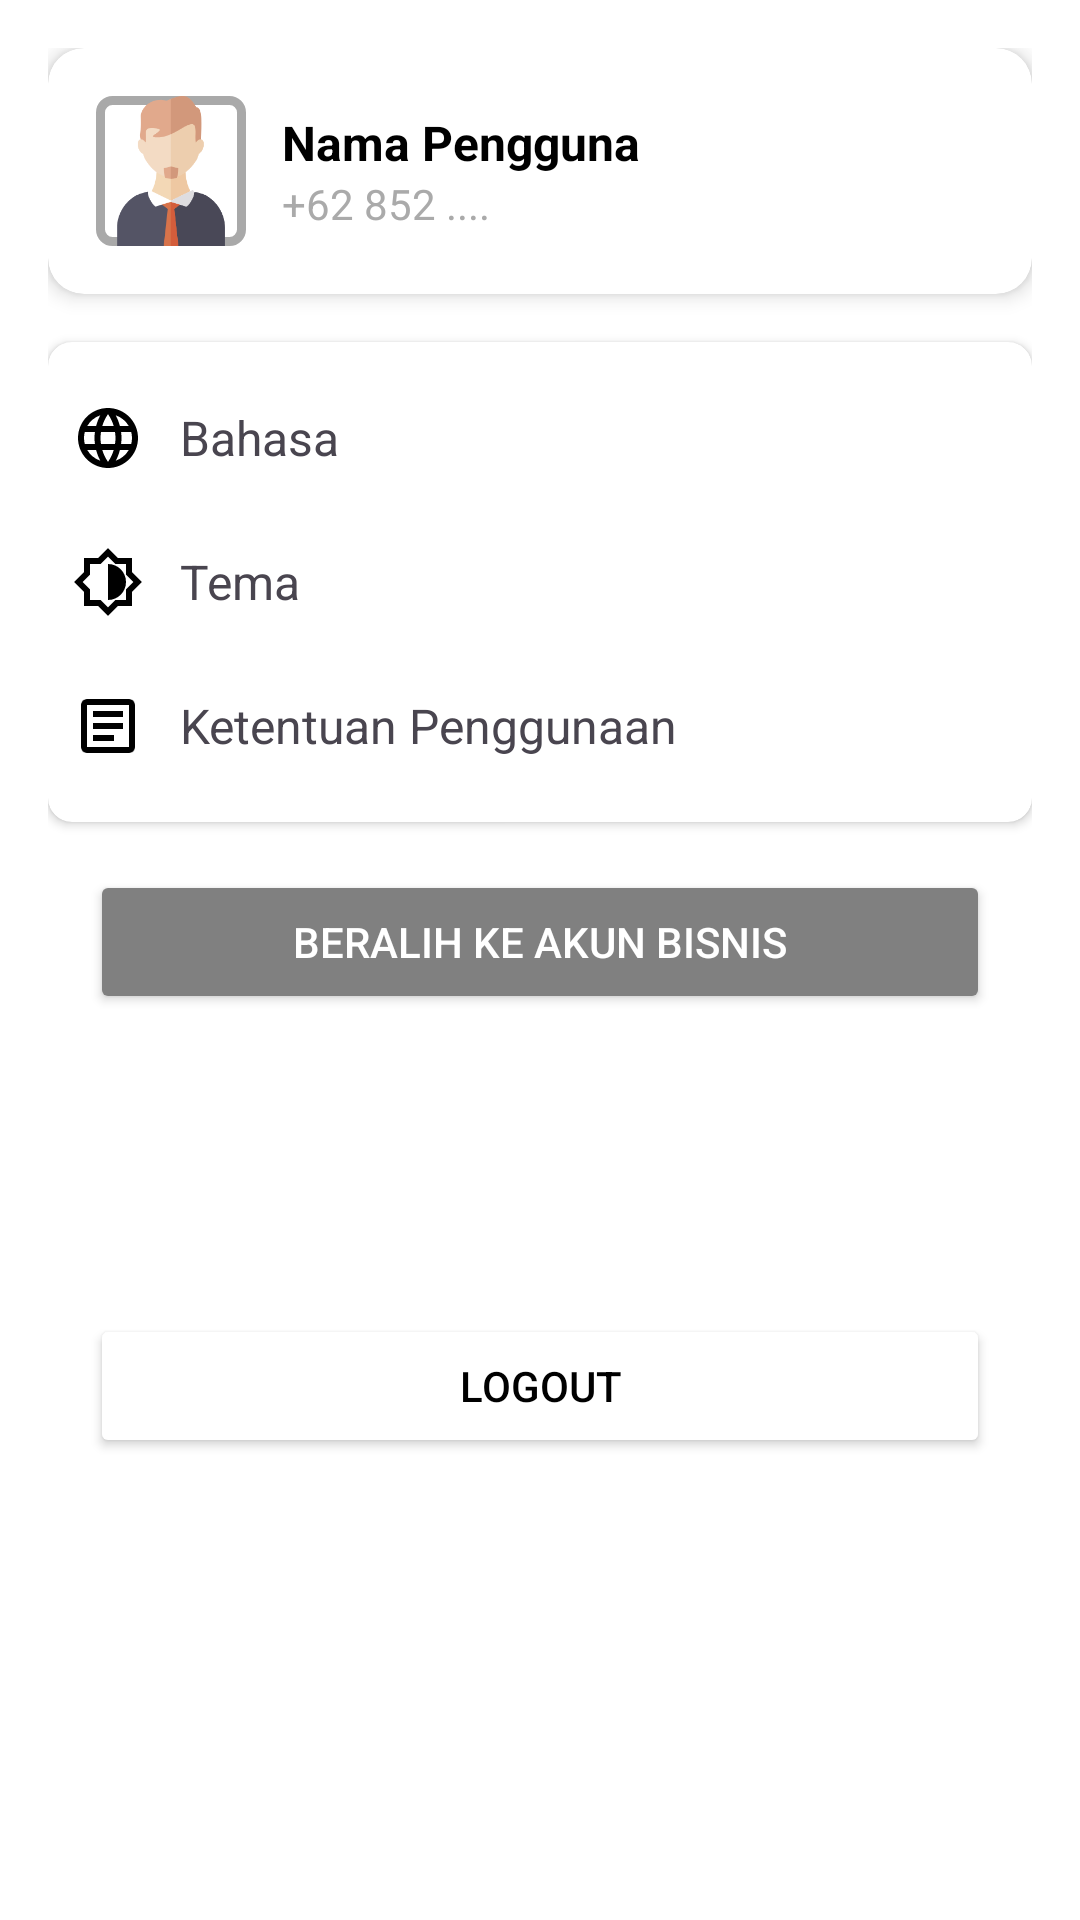

Named icons in this screenshot (1080 × 1920) and their bounding boxes, [x1=x1, y1=y1, x2=x2, y2=y2]:
article: [x1=81, y1=699, x2=135, y2=753]
brightness medium: [x1=74, y1=548, x2=142, y2=616]
language: [x1=78, y1=408, x2=138, y2=468]
